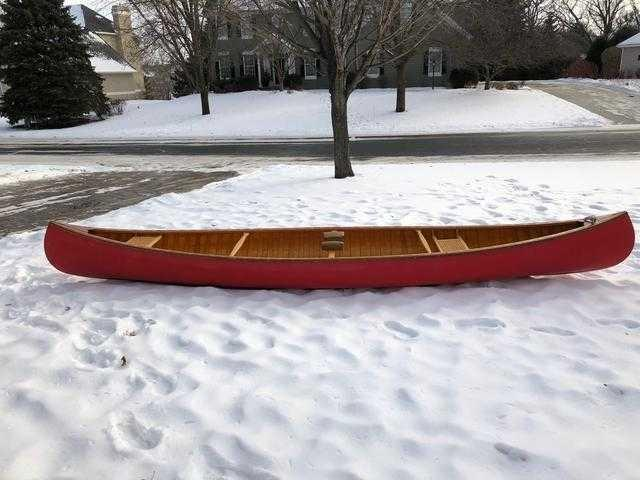kayak: (47, 216, 631, 292)
